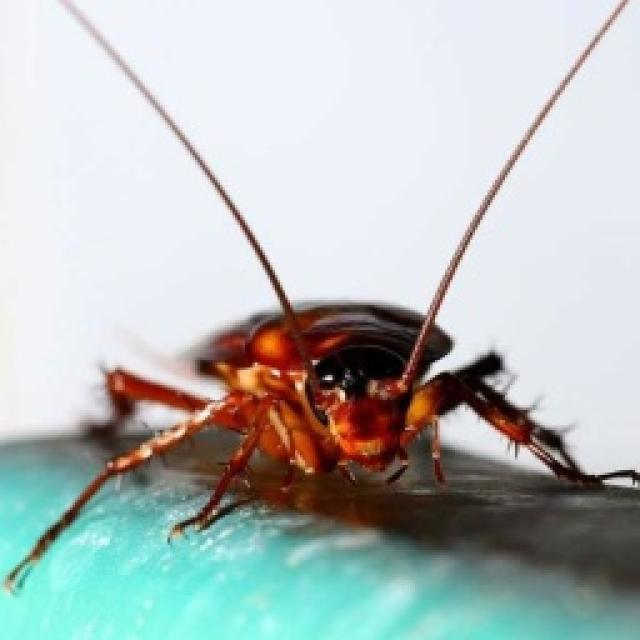cockroach: (65, 253, 567, 529)
